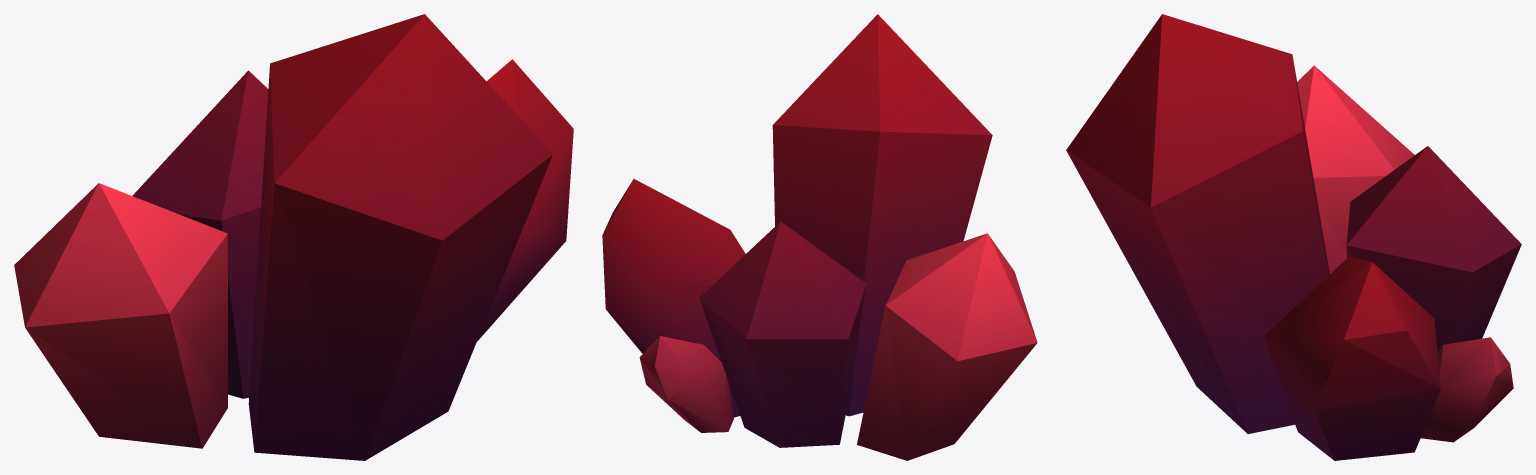
The model's file is ZLP_Crystalk_B_13.FBX.
3 renders of one model, left to right at view 1: azimuth 30°, elevation 25°; view 2: azimuth 150°, elevation 25°; view 3: azimuth 270°, elevation 25°, orthographic. The views are drawn at different scales.
Parts seen in each view (by area): view 1: ZLP_Crystalk_B_13; view 2: ZLP_Crystalk_B_13; view 3: ZLP_Crystalk_B_13.
Part boxes in pixels (x1,y1,x2,y2): ZLP_Crystalk_B_13: [14, 14, 573, 460]; ZLP_Crystalk_B_13: [602, 14, 1037, 460]; ZLP_Crystalk_B_13: [1066, 14, 1521, 460].
Size of the model in its own units: 135 by 104 by 110.
